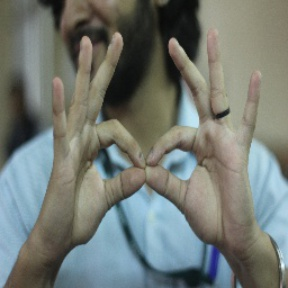B: (80, 113, 209, 213)
